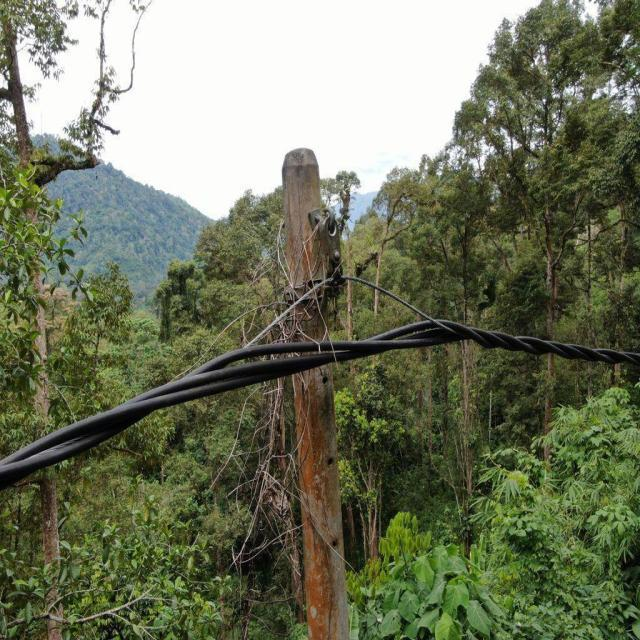critical vegetation: (217, 198, 345, 637)
